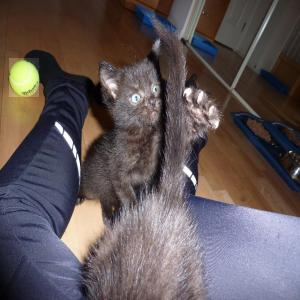TennisBall: (10, 60, 41, 100)
